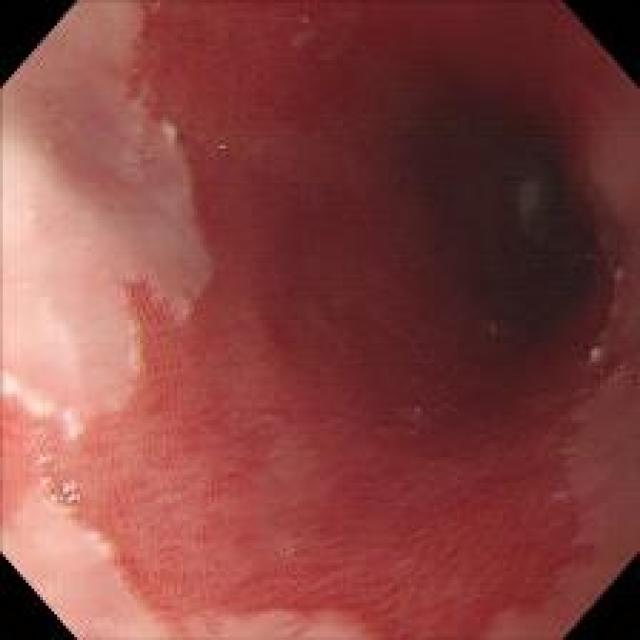blur: (28, 196, 596, 624)
bubbles: (28, 429, 85, 514), (206, 130, 236, 165), (290, 6, 321, 32)
contrast: (398, 58, 622, 372)
specularity: (36, 474, 59, 502), (59, 479, 80, 500), (35, 438, 54, 461)
